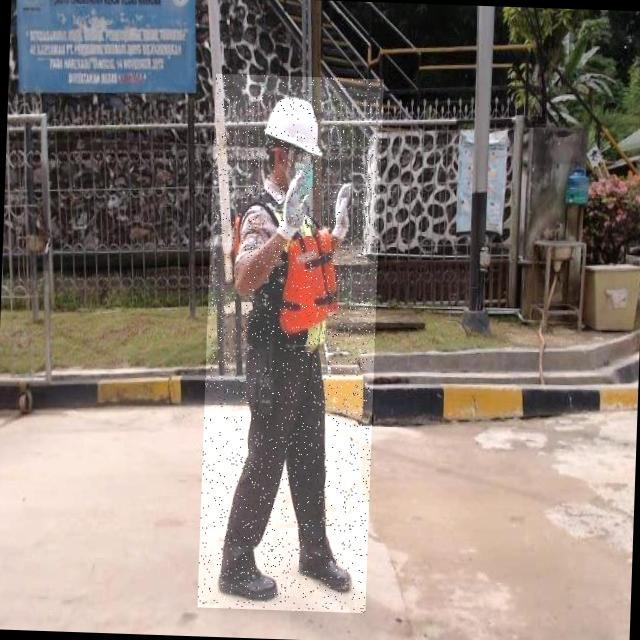Gloves: (274, 163, 317, 249), (323, 168, 364, 248)
Helmet: (260, 88, 330, 160)
Person: (197, 64, 383, 626), (198, 67, 378, 625)
Safety Boot: (293, 547, 358, 600), (214, 558, 280, 607)
Safety Vest: (224, 180, 349, 347)
